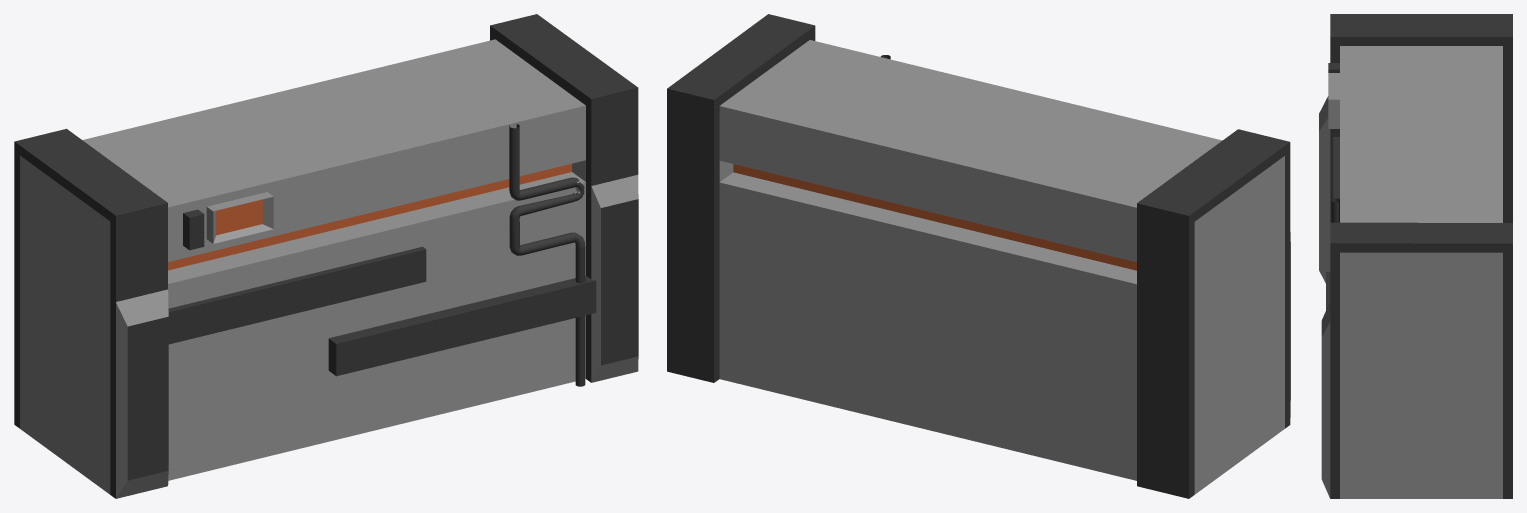
The model's file is Wall_Asset.fbx.
The picture shows the model from 3 angles, left to right: view 1: azimuth 30°, elevation 25°; view 2: azimuth 150°, elevation 25°; view 3: azimuth 270°, elevation 25°; orthographic projection. The views are drawn at different scales.
Visible parts, largest first — view 1: Wall_Asset; view 2: Wall_Asset; view 3: Wall_Asset.
Part boxes in pixels (box(x1,y1,x2,y2)): Wall_Asset: box(14, 14, 638, 498); Wall_Asset: box(667, 14, 1290, 498); Wall_Asset: box(1319, 14, 1512, 498).
Size of the model in its own units: 200 by 104 by 71.3.
